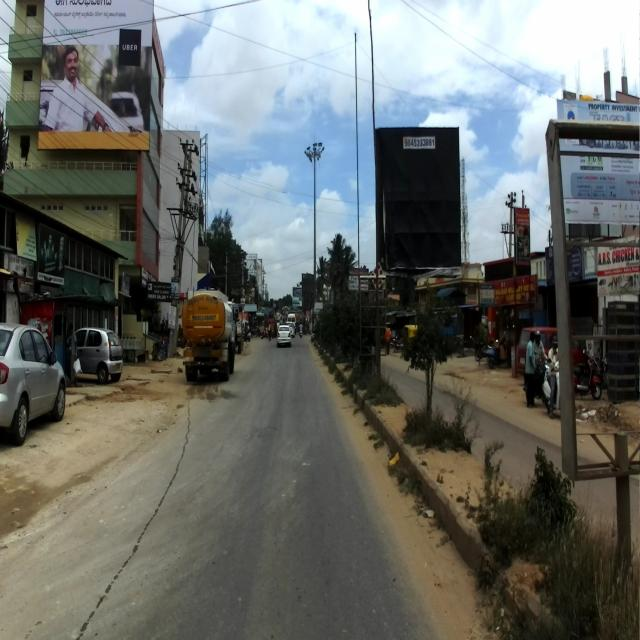car: (65, 326, 124, 384)
scooter: (181, 286, 235, 381)
